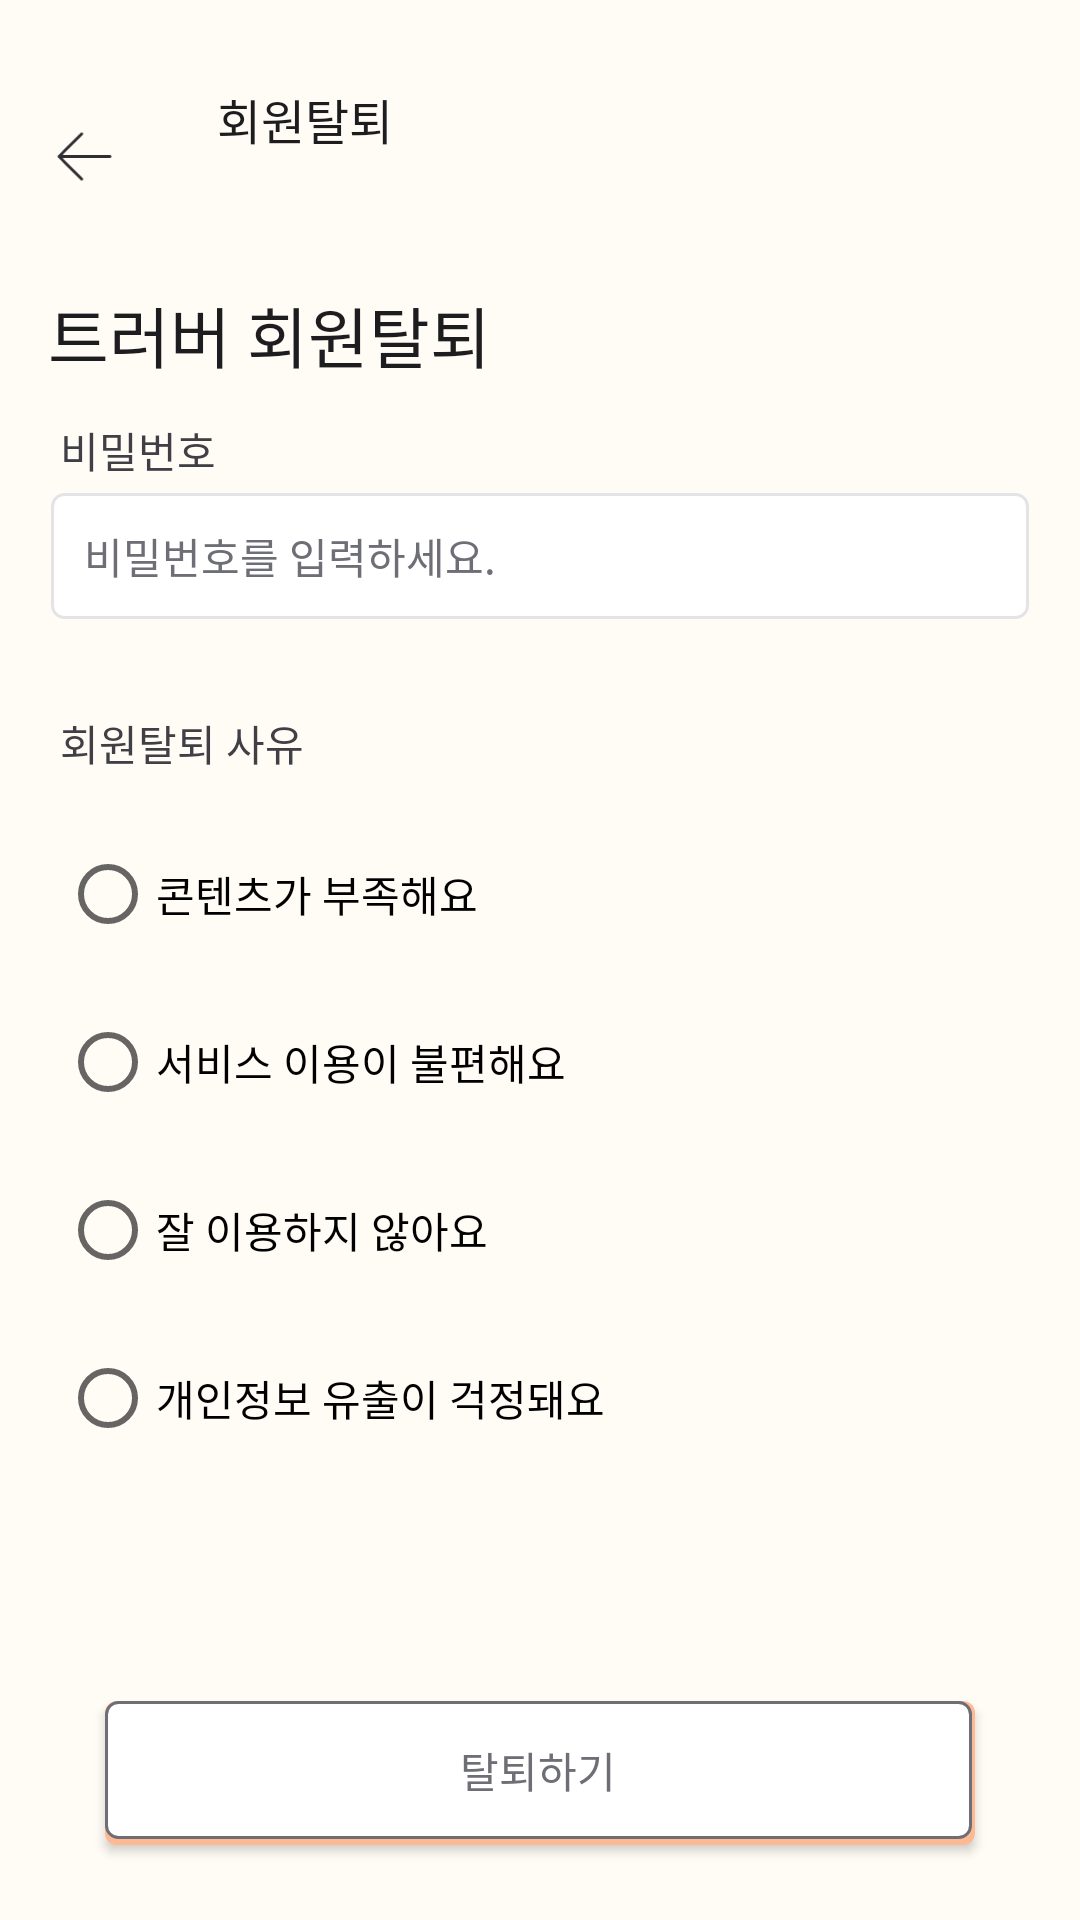

Point at icon controls on the screen. Image size 1080 x 1920, points as [x,y].
back: [84,156]
